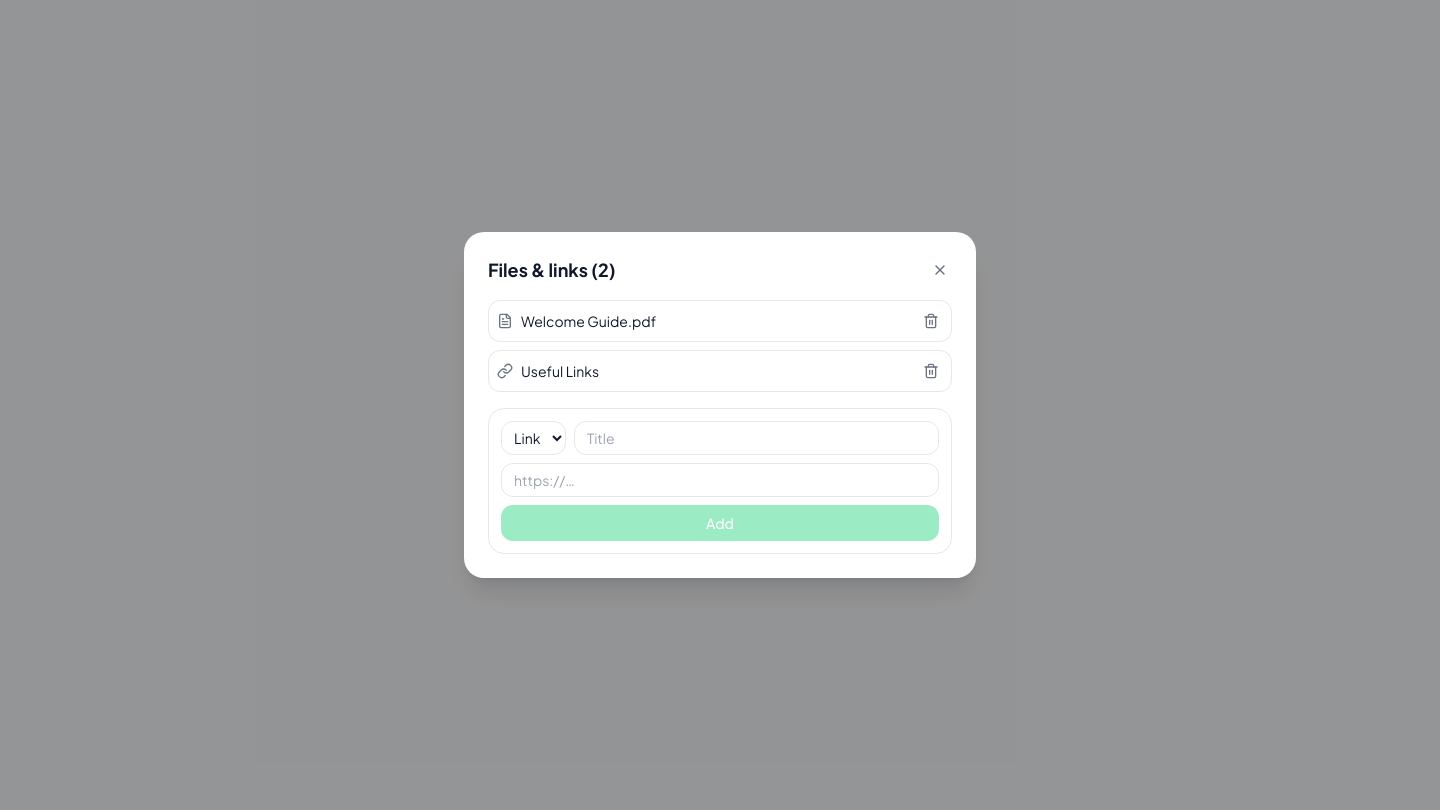
Test: HubResourcesModal › shows an error message when adding fails
Expected: the text "Welcome Guide.pdf" is shown, [521,312,656,330]
Type "New Link" into the field with placeholder "Title" at (756, 438), box [574,421,939,455]
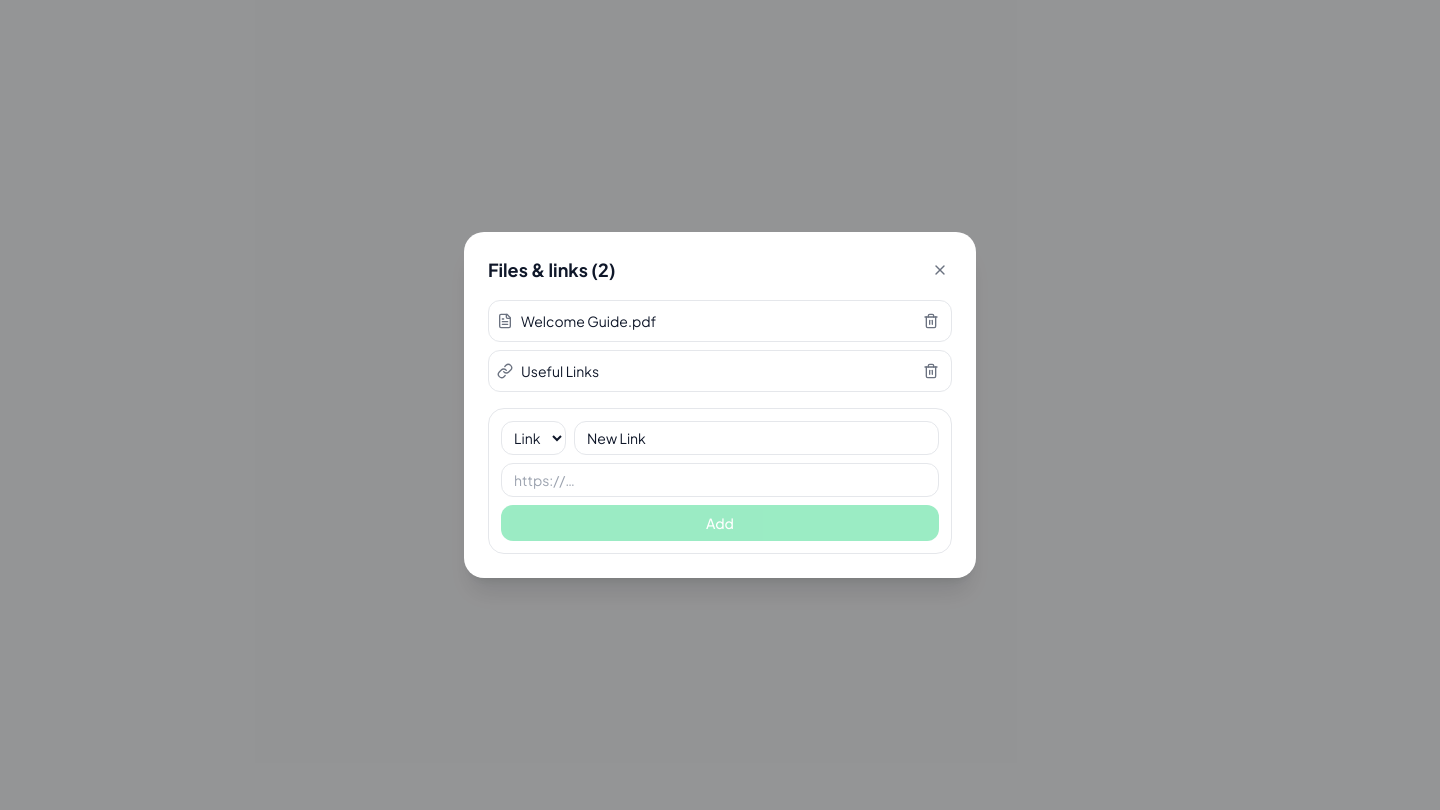
Type "https://new.test" into the field with placeholder "https://…" at (720, 480), box [501,463,939,497]
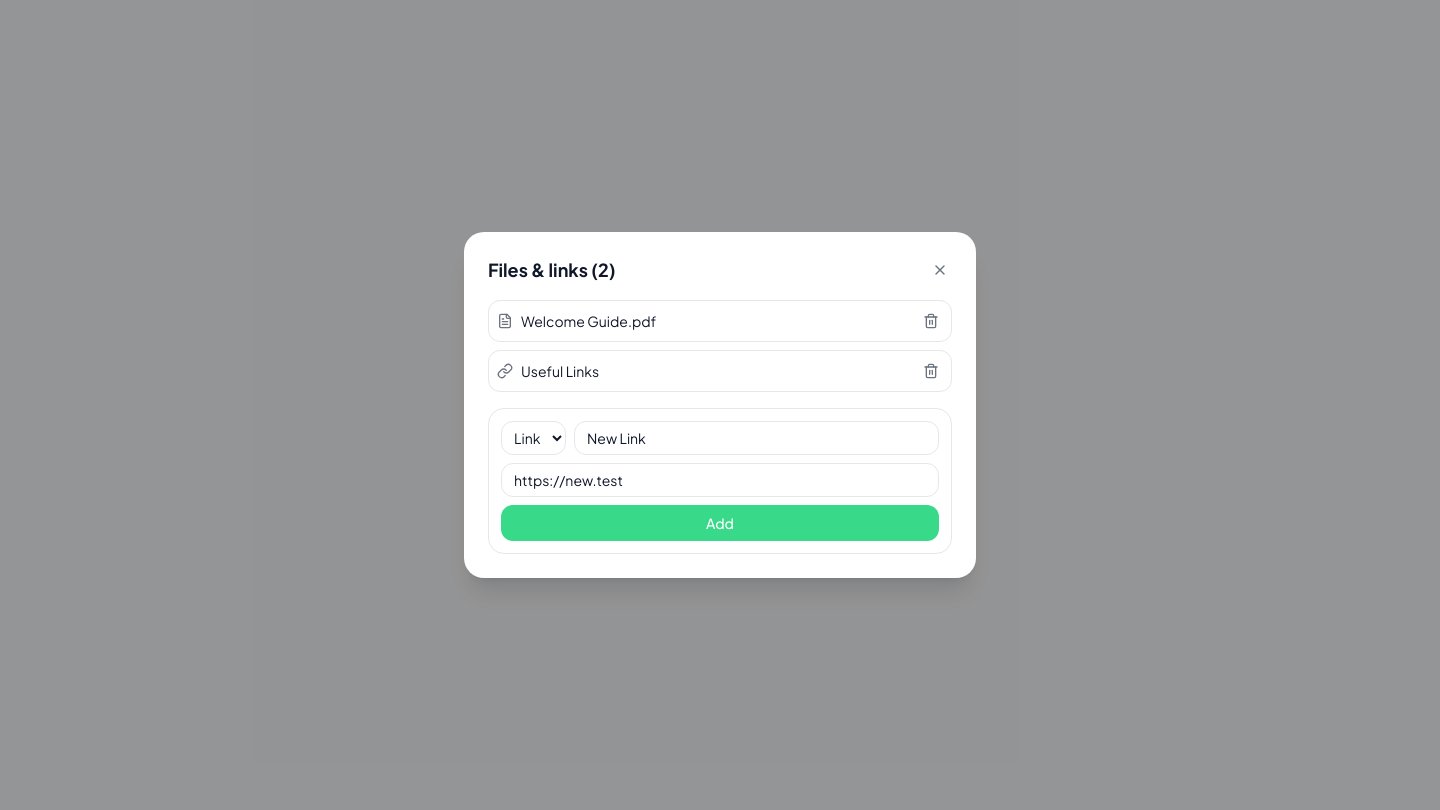
Click the button "Add" at (720, 523), box [501,505,939,541]
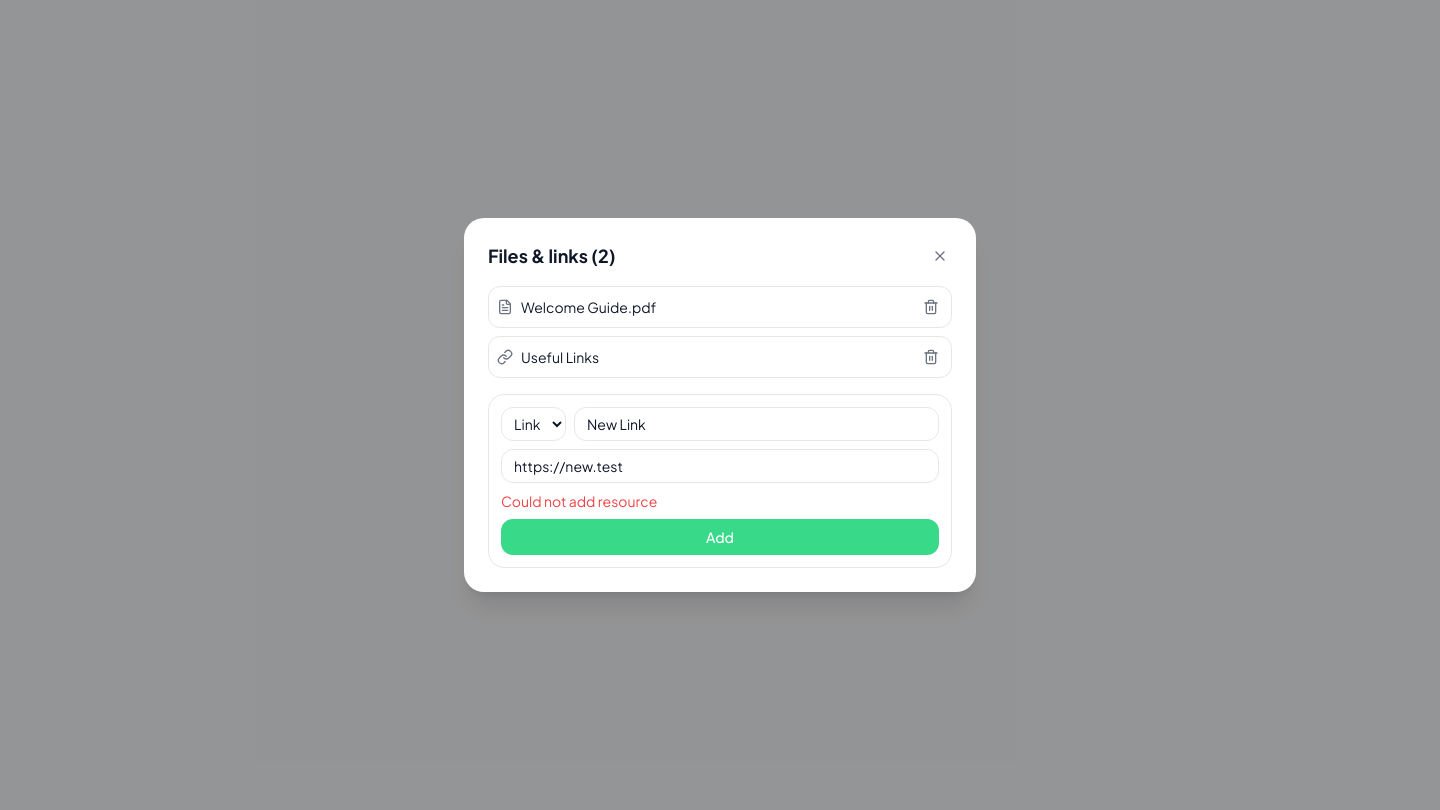
Expected: the text "Could not add resource" is shown, [501,492,657,510]
